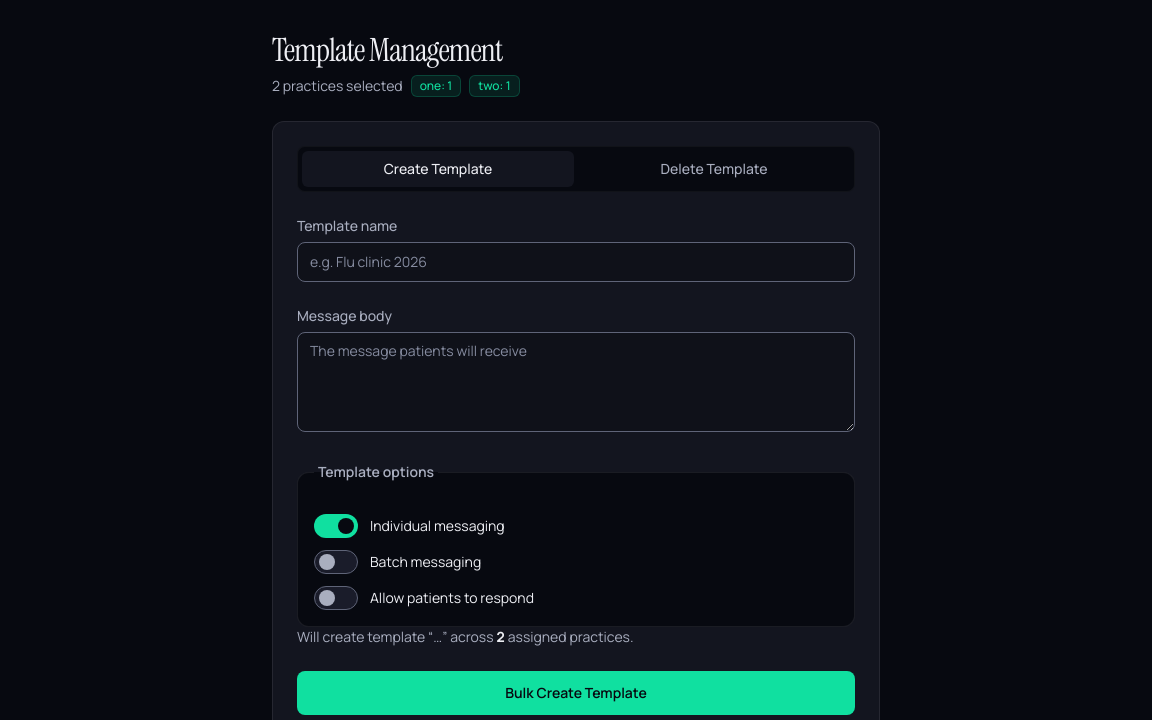
Test: TemplatesPage run start › (c2) does not navigate when every startRun rejects
This screenshot has width=1152, height=720.
Expected: the text "one: 1" is shown, [411,75,461,97]
Type "Flu 2026" into the field labelled "Template name" at (576,262), box [297,242,855,282]
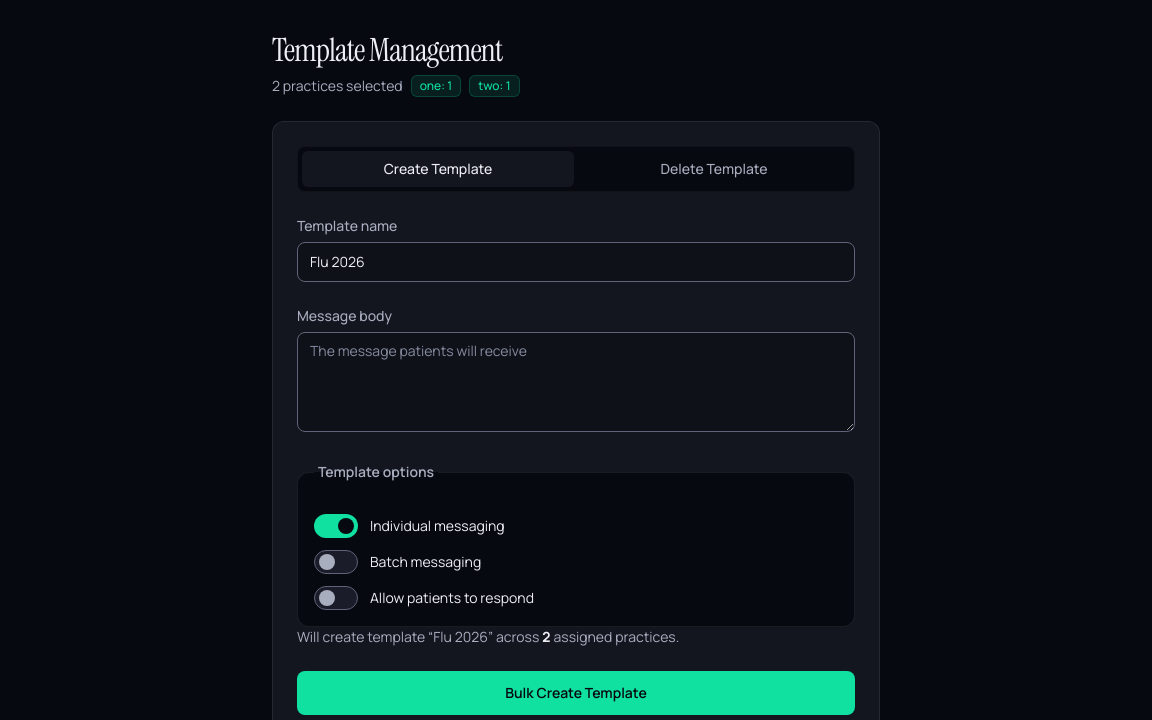
Type "Hello" into the text box labelled "Message body" at (576,382), box [297,332,855,432]
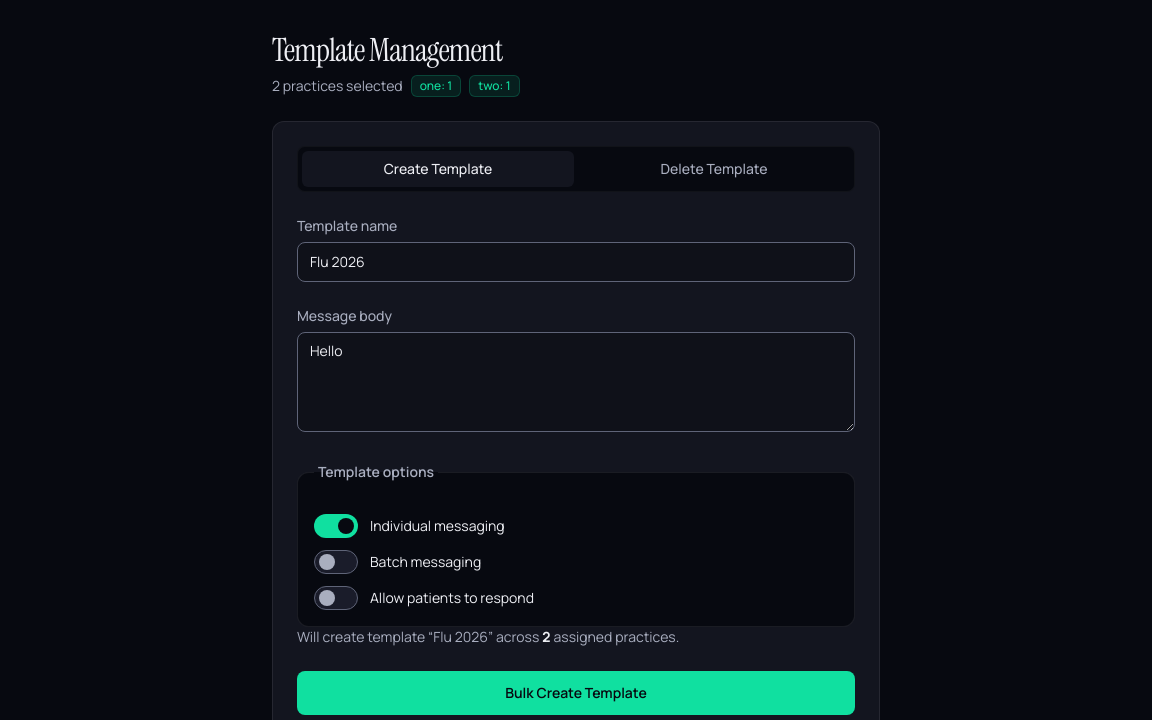
Click the button "Bulk Create Template" at (576,693), box [297,671,855,715]
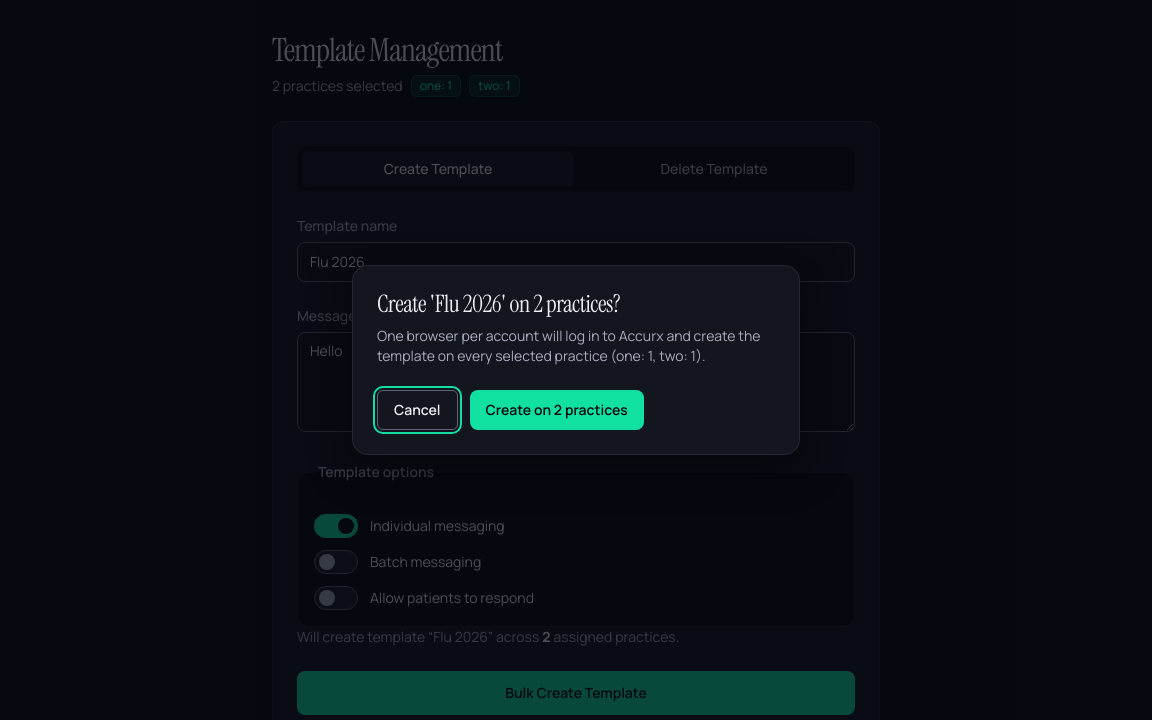
Click the button "Create on 2 practices" at (557,410), box [470,390,644,430]
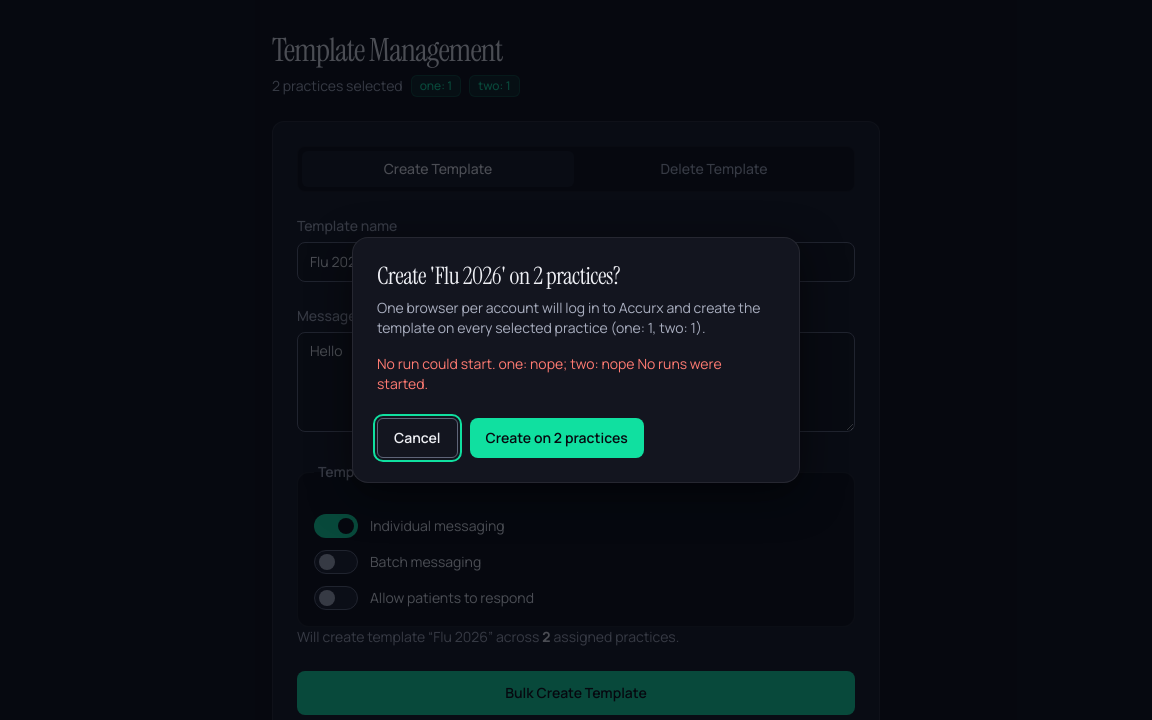
Now the text "No run could start. one: nope; two: nope No runs were started." is shown, box [377,354,775,394]
